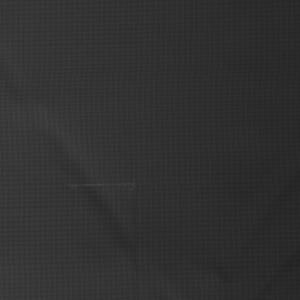Wrinkle: (1, 61, 153, 275), (202, 145, 300, 300)
